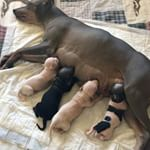puppy: (2, 1, 66, 66), (42, 76, 106, 141), (28, 61, 81, 135), (85, 79, 131, 144), (16, 54, 61, 98)
